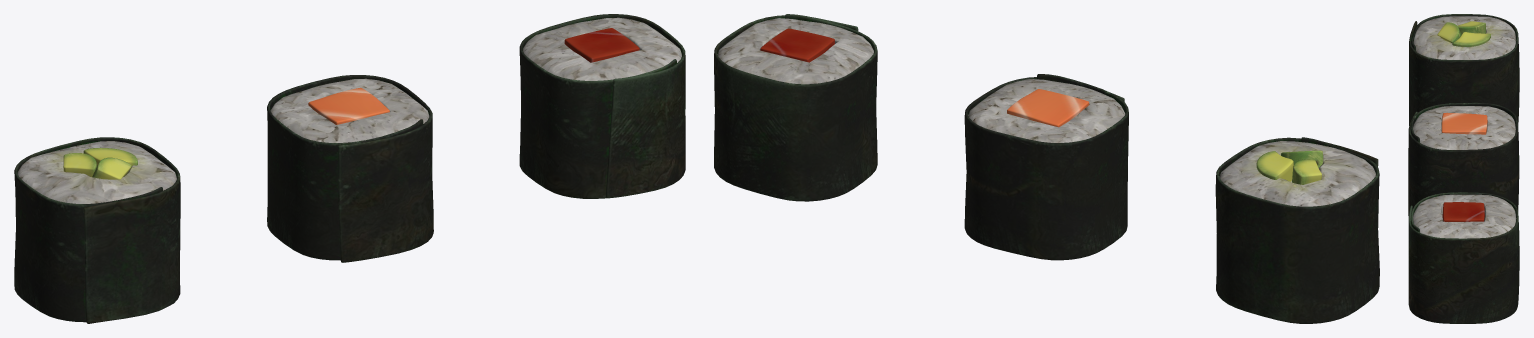
File: sushi.glb
The picture shows the model from 3 angles, left to right: view 1: azimuth 30°, elevation 25°; view 2: azimuth 150°, elevation 25°; view 3: azimuth 270°, elevation 25°; orthographic projection. The views are drawn at different scales.
Parts seen in each view (by area): view 1: pasted__pCube4 (×2), group2_pasted__pCylinder1; view 2: pasted__pCube4 (×2), group2_pasted__pCylinder1; view 3: pasted__pCube4 (×2), group2_pasted__pCylinder1.
Part boxes in pixels (x1,y1,x2,y2): pasted__pCube4 (×2): (267,14,685,262); group2_pasted__pCylinder1: (14,137,180,323); pasted__pCube4 (×2): (714,14,1128,260); group2_pasted__pCylinder1: (1215,137,1379,323); pasted__pCube4 (×2): (1408,102,1519,323); group2_pasted__pCylinder1: (1409,14,1519,125).
Size of the model in its own units: 11.46 by 2.33 by 2.39.
1 material, 1 textured.
